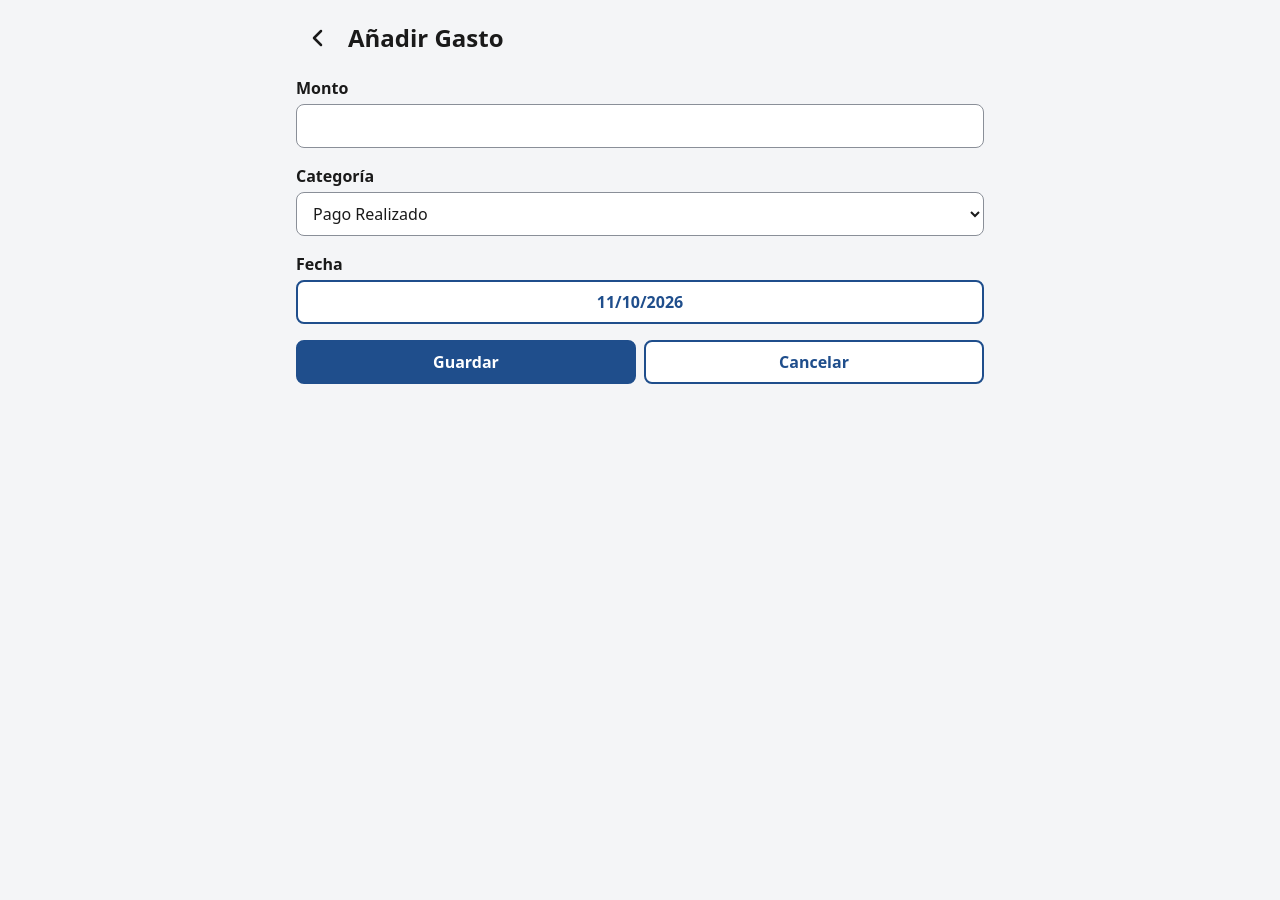
Test: FormularioMovimiento en modo alta › con monto "" muestra "El monto debe ser mayor a 0." y no guarda (AC-45)
Click the button "Guardar" at (466, 362), box [296, 340, 636, 384]
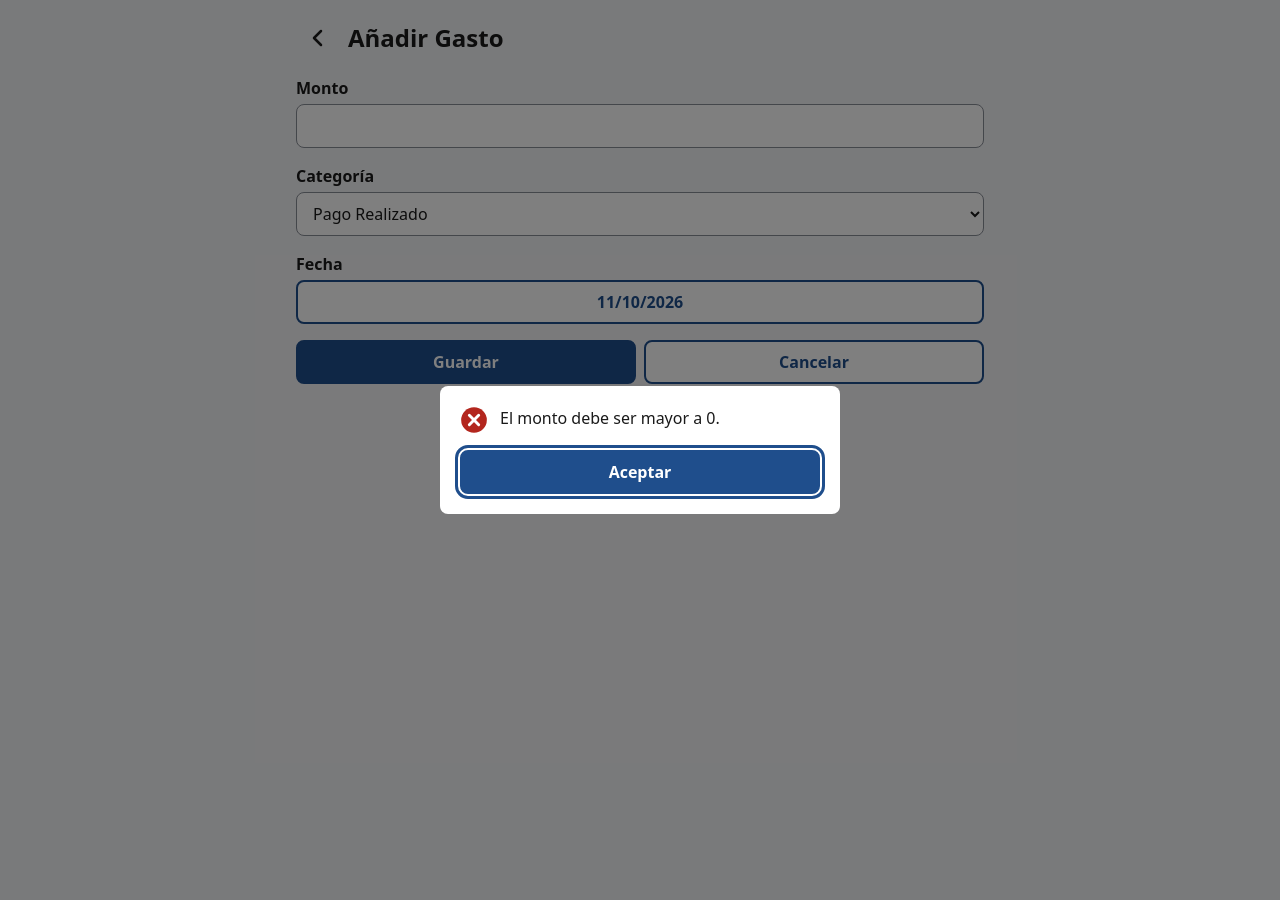
Now the text "El monto debe ser mayor a 0." is shown, box [500, 406, 720, 430]
Now the picture named "Error" is shown, box [460, 406, 488, 434]
